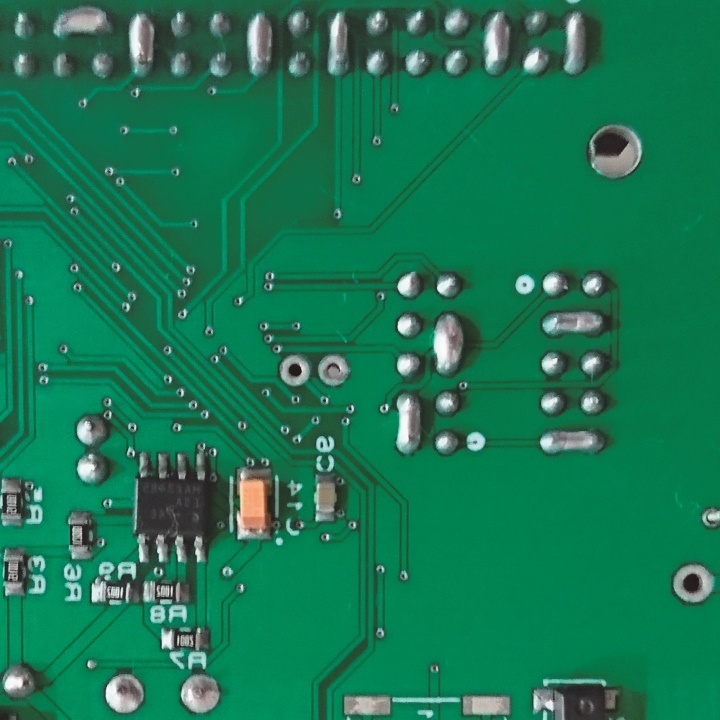F: (669, 560, 715, 607), (102, 670, 146, 719), (179, 672, 218, 718), (276, 354, 312, 389), (315, 353, 349, 389), (699, 501, 720, 532)
P: (241, 6, 279, 83), (536, 427, 609, 461), (51, 6, 113, 43), (432, 309, 464, 378), (484, 7, 514, 80), (539, 309, 610, 339), (561, 7, 589, 83), (327, 9, 355, 82), (394, 391, 423, 460), (127, 10, 155, 80)
